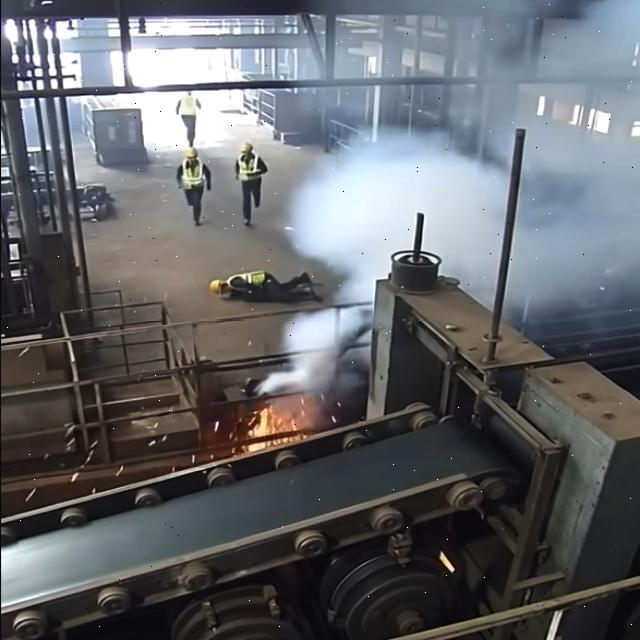fallen: (210, 270, 319, 303)
standing: (178, 147, 212, 225), (236, 144, 268, 225), (177, 91, 201, 145)
